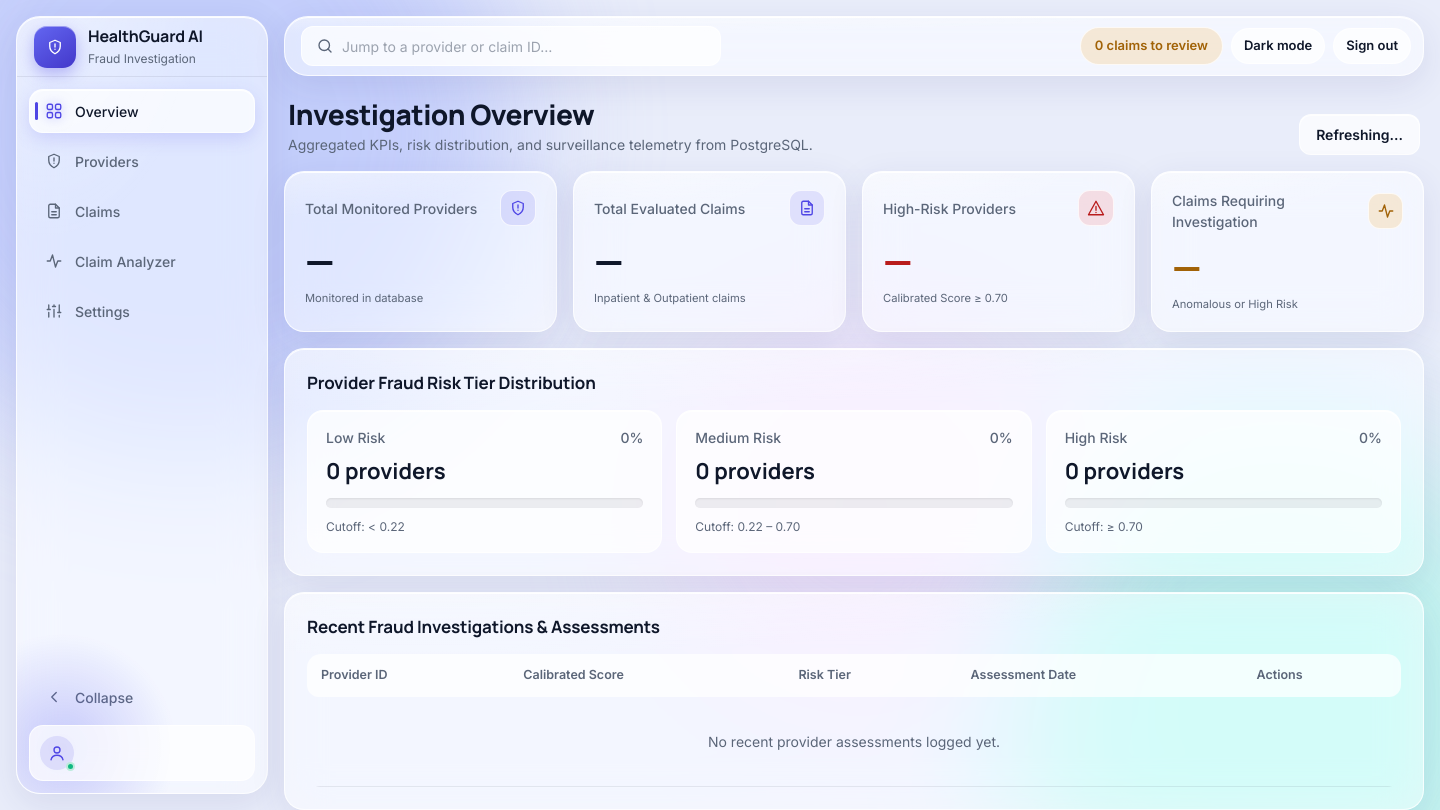
Scenario: HealthGuard AI Frontend Integration Tests › Claim Fraud Analyzer Probability & Risk Tier Validation › clears stale results when starting a new claim evaluation
Expected: the text "Claim Analyzer" is shown, [75,250,176,272]
Click the button "Claim Analyzer".
click(142, 261)  # box [29,239,255,283]
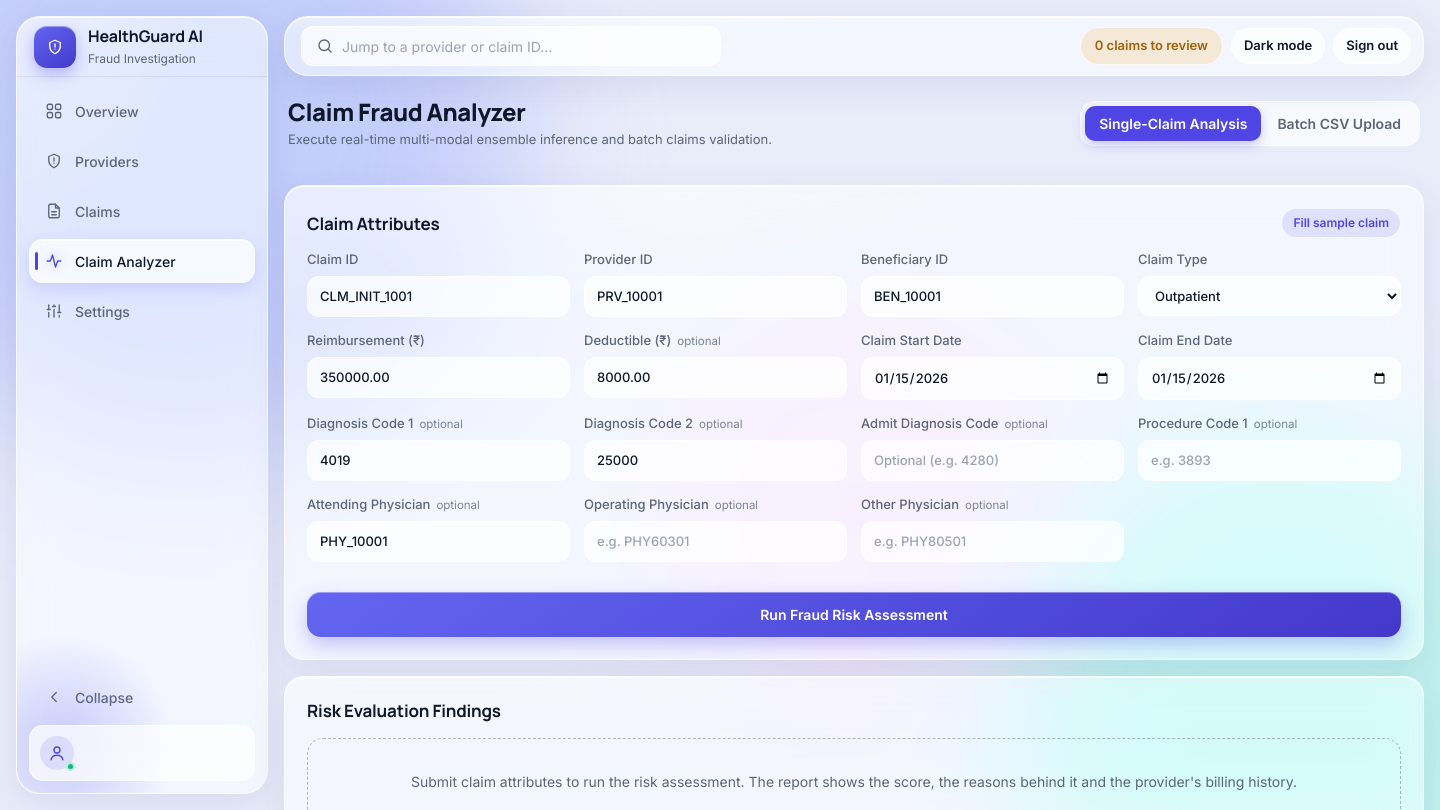
Note: Trigger submission
Click the button "Run Fraud Risk Assessment".
click(854, 615)  # box [307,592,1401,637]
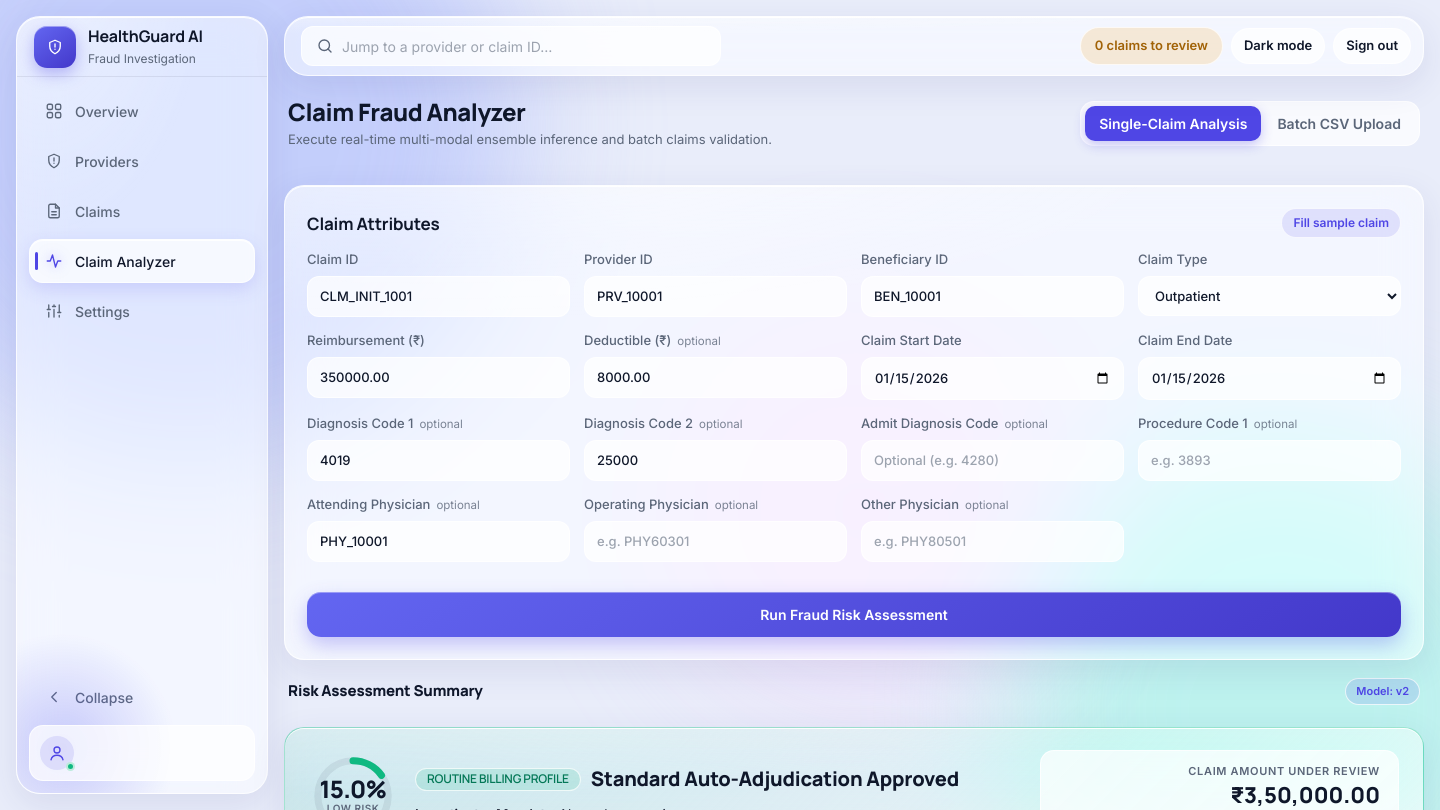
Result: the button named "Evaluating ML Ensemble..." is shown at [307,592,1401,637]
Result: the text with test id "risk-score-value" reads "15.0%" at [320,772,386,805]
